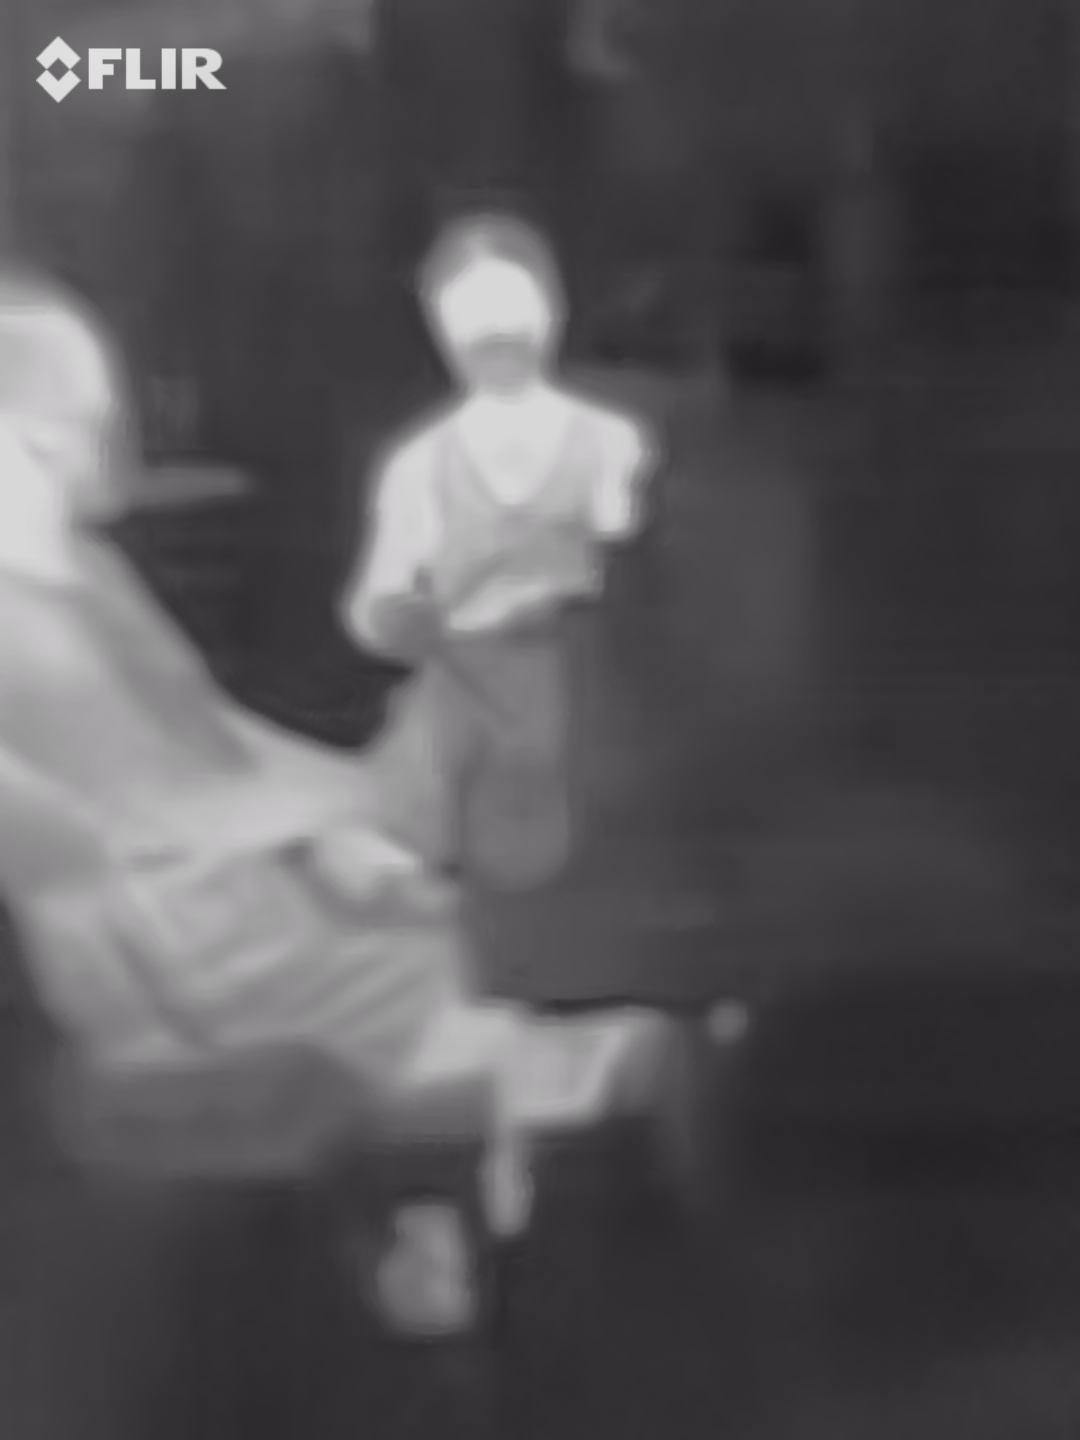head: (413, 219, 580, 406)
